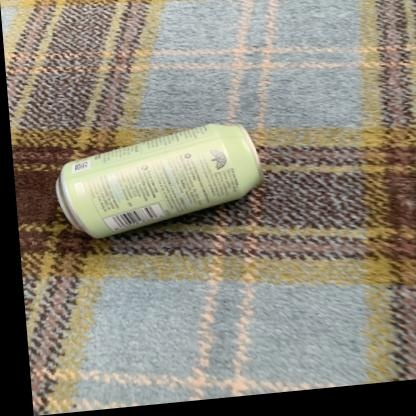trash: (56, 124, 261, 237)
